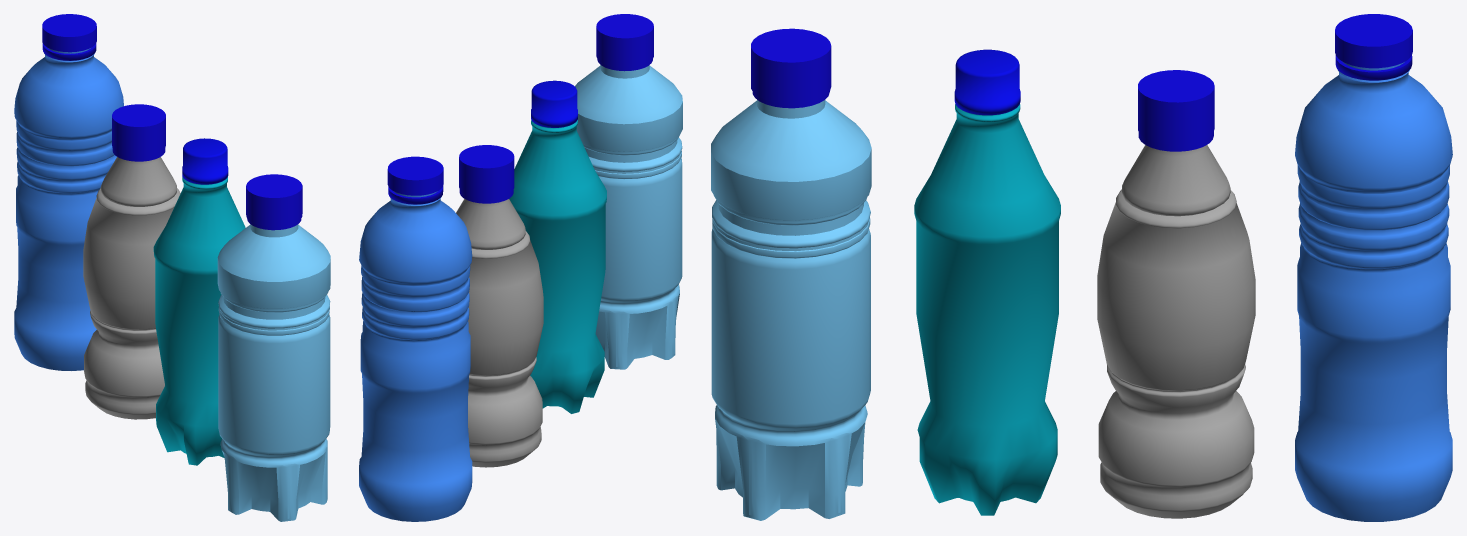
Rendered from bottle.glb.
3 views of the same model, side by side, from view 1: azimuth 30°, elevation 25°; view 2: azimuth 150°, elevation 25°; view 3: azimuth 270°, elevation 25° (orthographic). The views are drawn at different scales.
Parts seen in each view (by area): view 1: Cylinder.003, Cylinder.001, Cylinder.002, Cylinder; view 2: Cylinder.001, Cylinder.003, Cylinder, Cylinder.002; view 3: Cylinder.001, Cylinder.003, Cylinder.002, Cylinder.
Part boxes in pixels (x1,y1,x2,y2): Cylinder.003: (217, 174, 330, 521); Cylinder.001: (14, 14, 123, 370); Cylinder.002: (83, 104, 180, 419); Cylinder: (153, 138, 245, 465); Cylinder.001: (359, 156, 472, 521); Cylinder.003: (575, 14, 682, 369); Cylinder: (509, 80, 606, 413); Cylinder.002: (456, 145, 543, 467); Cylinder.001: (1295, 14, 1452, 521); Cylinder.003: (711, 28, 871, 520); Cylinder.002: (1097, 70, 1255, 518); Cylinder: (914, 49, 1060, 515).
Bounding box in the file's own units: 0.00804 × 0.0255 × 0.0371.
